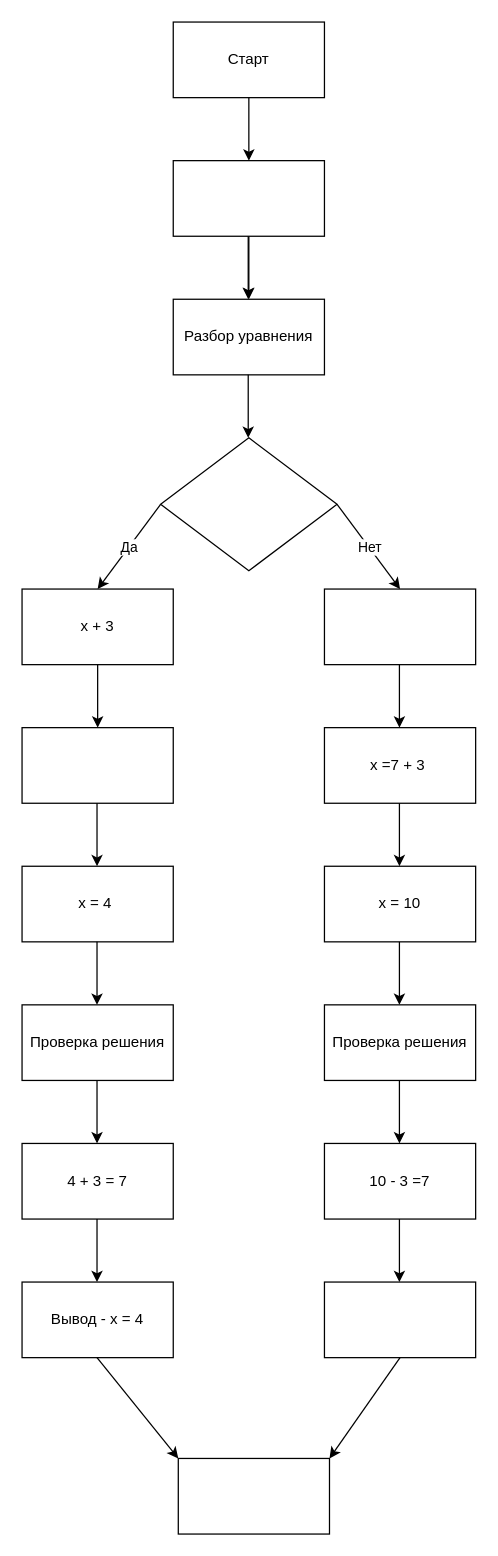
Image size: 498x1556. Some labels were removed from this diagram. Here are the shapes that lost their labels. From the top down, the centre of each, then its label:
the point at 248,197: Ввод: x +3 =7
the point at 248,504: Есть ли знак "+"
the point at 399,626: x - 3
the point at 97,764: x =7 - 3
the point at 399,1319: Вывод - x = 10
the point at 253,1495: СТОП
